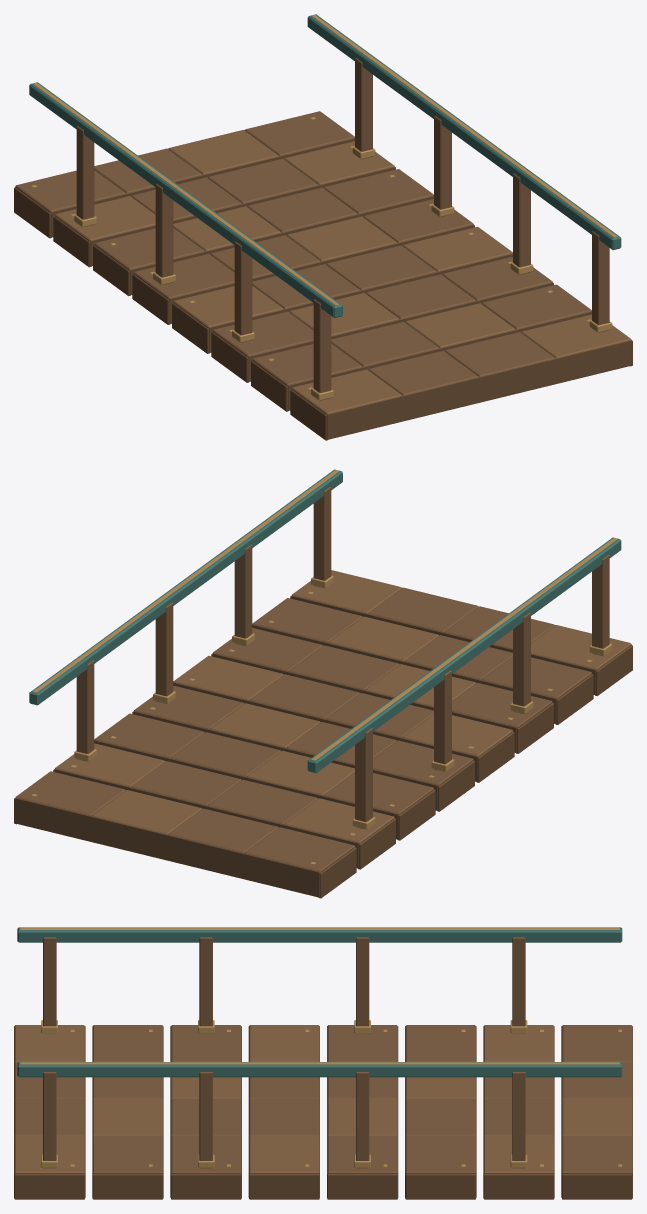
Rendered from north-bridge.glb.
3 renders of one model, top to bottom at view 1: azimuth 30°, elevation 25°; view 2: azimuth 150°, elevation 25°; view 3: azimuth 270°, elevation 25°, orthographic.
Parts seen in each view (by area): view 1: north-bridge; view 2: north-bridge; view 3: north-bridge.
Boxes of the visible parts, <box> form: north-bridge: <box>14,14,632,440</box>; north-bridge: <box>14,469,632,898</box>; north-bridge: <box>14,927,632,1199</box>.
Bounding box in the file's own units: 2.48 × 1.01 × 4.35.
